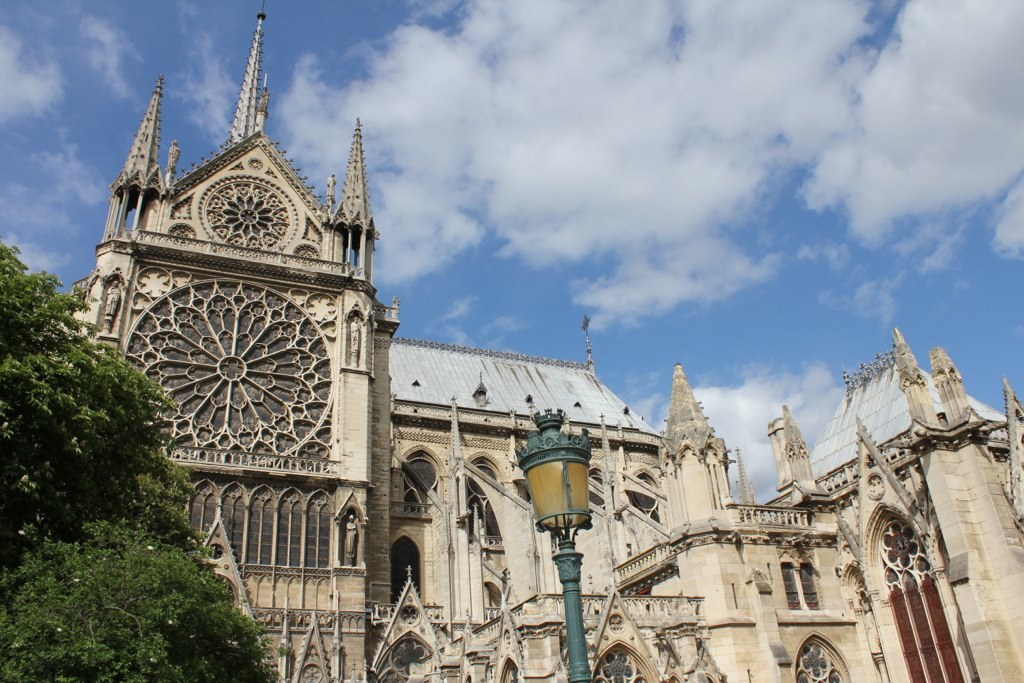Tree: (19, 280, 174, 590)
